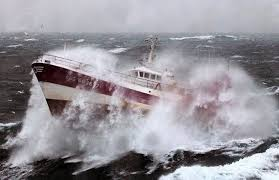tau_dansu: (33, 47, 227, 135)
